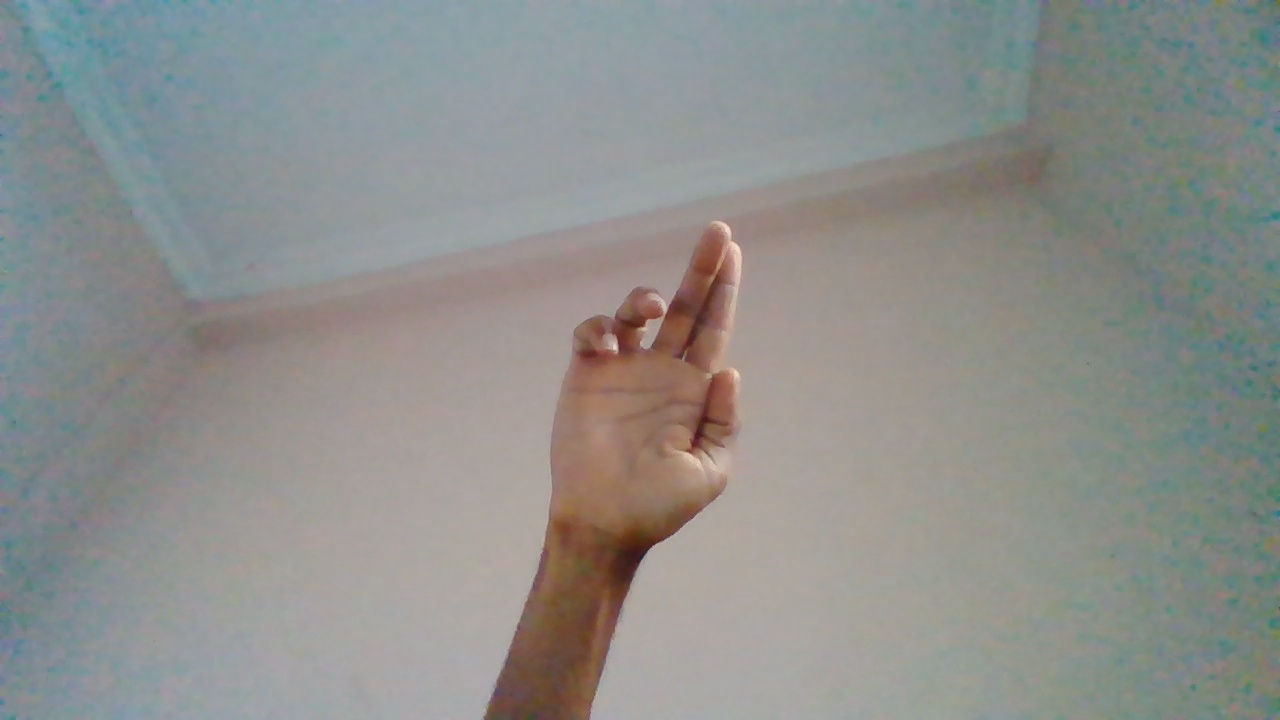gne: (548, 220, 743, 594)
